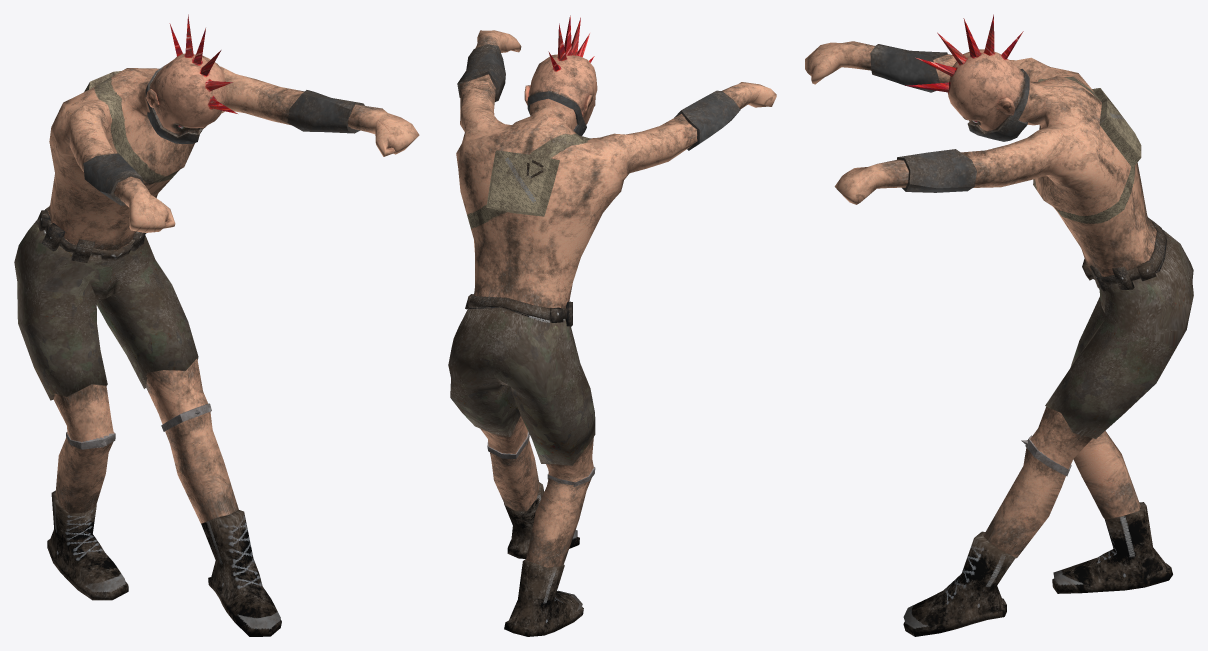
File: Anim_ataque_d3_npc2.0042.obj
The picture shows the model from 3 angles, left to right: view 1: azimuth 30°, elevation 25°; view 2: azimuth 150°, elevation 25°; view 3: azimuth 270°, elevation 25°; orthographic projection. The views are drawn at different scales.
Visible parts, largest first — view 1: polySurface1; view 2: polySurface1; view 3: polySurface1.
Part boxes in pixels (x1=…): polySurface1: x1=14, y1=14, x2=419, y2=636; polySurface1: x1=448, y1=15, x2=776, y2=636; polySurface1: x1=805, y1=14, x2=1193, y2=636.
Bounding box in the file's own units: 4.77 × 8.98 × 5.29.
